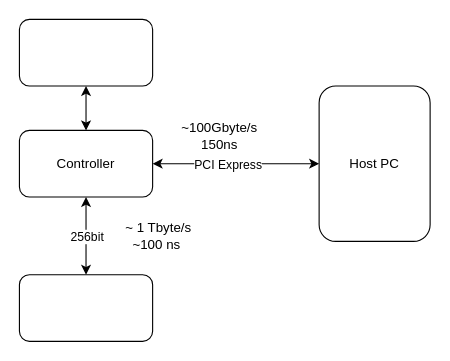
Some shapes in this 450 by 361 pixel diagram are drawn without their labels. Each missing label, with the centre of its shape:
GPU memory: pixel 85 307
GPU processor array: pixel 85 52
